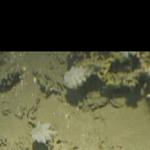alive: (1, 56, 147, 147)
